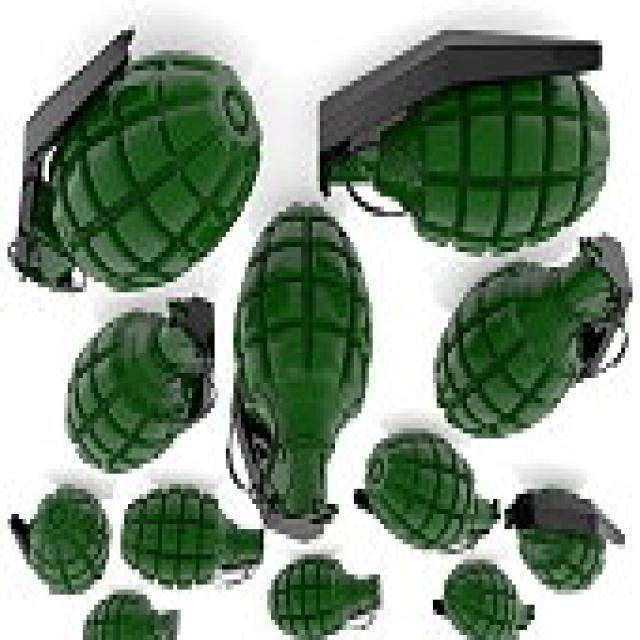grenade: (4, 28, 274, 299), (315, 27, 621, 259)
